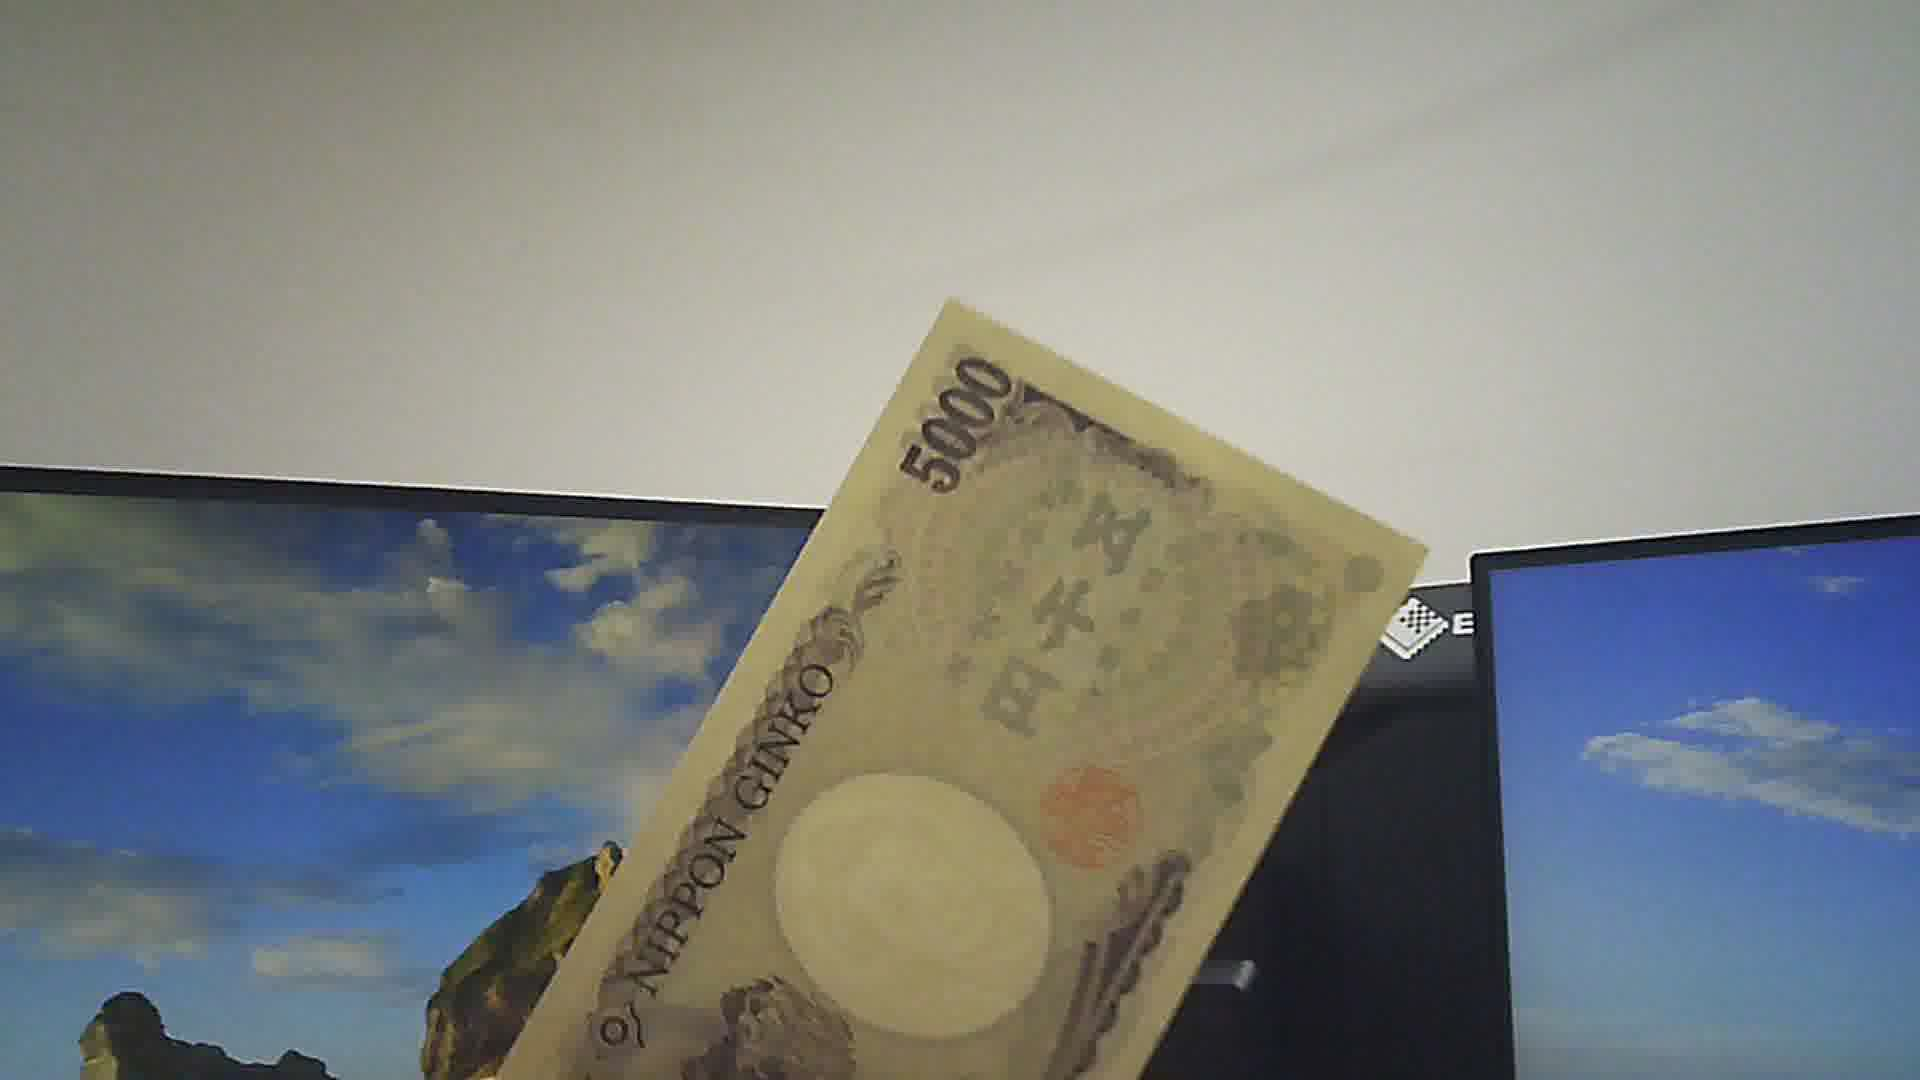5,000 Yen: (483, 290, 1400, 1079)
